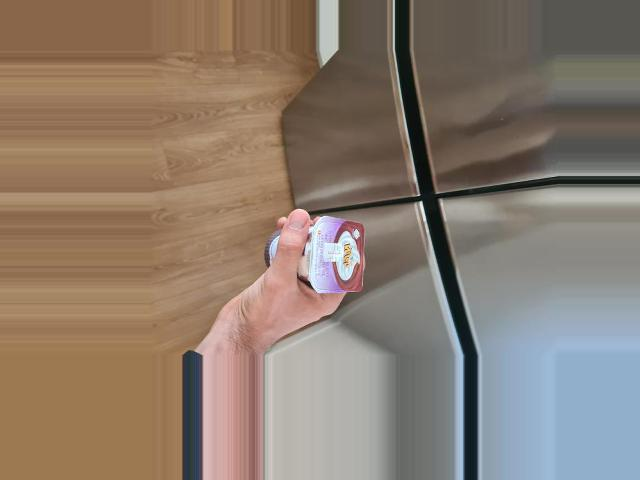milky: (261, 213, 371, 293)
